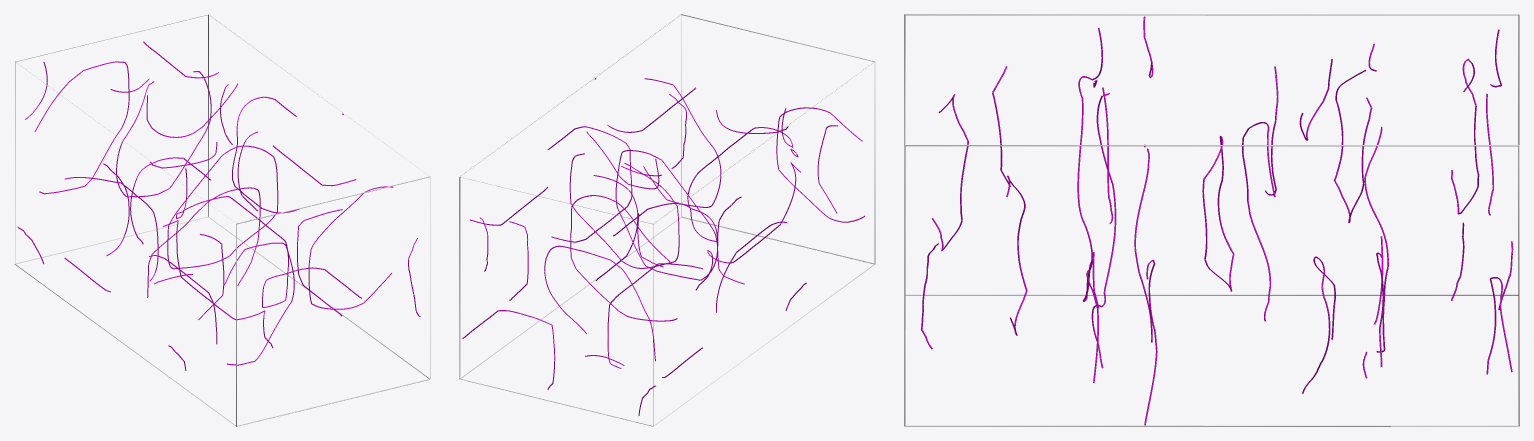
3 views of the same model, side by side, from view 1: azimuth 30°, elevation 25°; view 2: azimuth 150°, elevation 25°; view 3: azimuth 270°, elevation 25° (orthographic). The views are drawn at different scales.
Visible parts, largest first — view 1: Shape_IndexedLineSet.001, Shape_IndexedLineSet; view 2: Shape_IndexedLineSet.001, Shape_IndexedLineSet; view 3: Shape_IndexedLineSet.001, Shape_IndexedLineSet.
Boxes of the visible parts, x1,y1,x2,y2 form: Shape_IndexedLineSet.001: (17, 41, 420, 370); Shape_IndexedLineSet: (14, 14, 430, 426); Shape_IndexedLineSet.001: (462, 78, 864, 415); Shape_IndexedLineSet: (459, 14, 875, 426); Shape_IndexedLineSet.001: (921, 16, 1513, 425); Shape_IndexedLineSet: (904, 14, 1519, 426).
Bounding box in the file's own units: 235 × 235 × 465.
